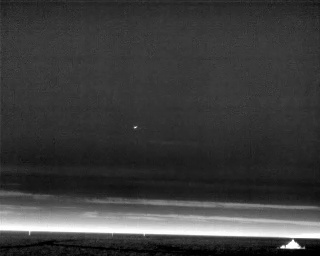BIRD: (132, 123, 140, 132)
